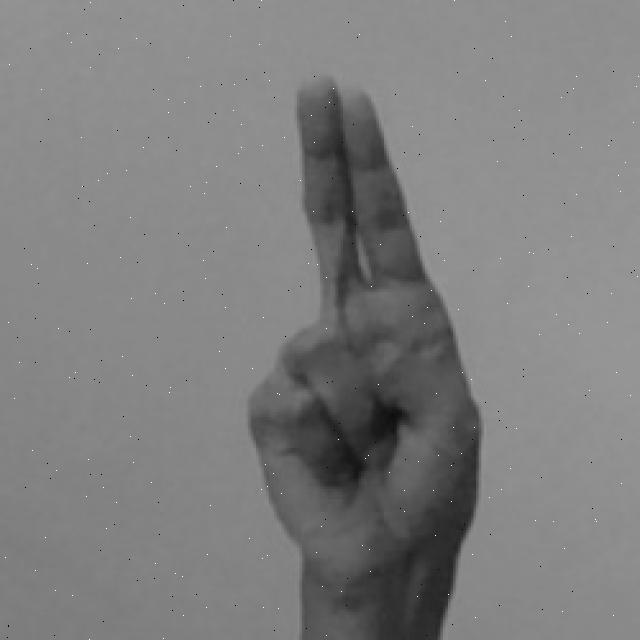U: (235, 66, 486, 640)
